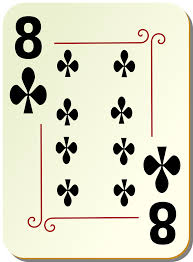eigth of clubs: (4, 1, 188, 260)
